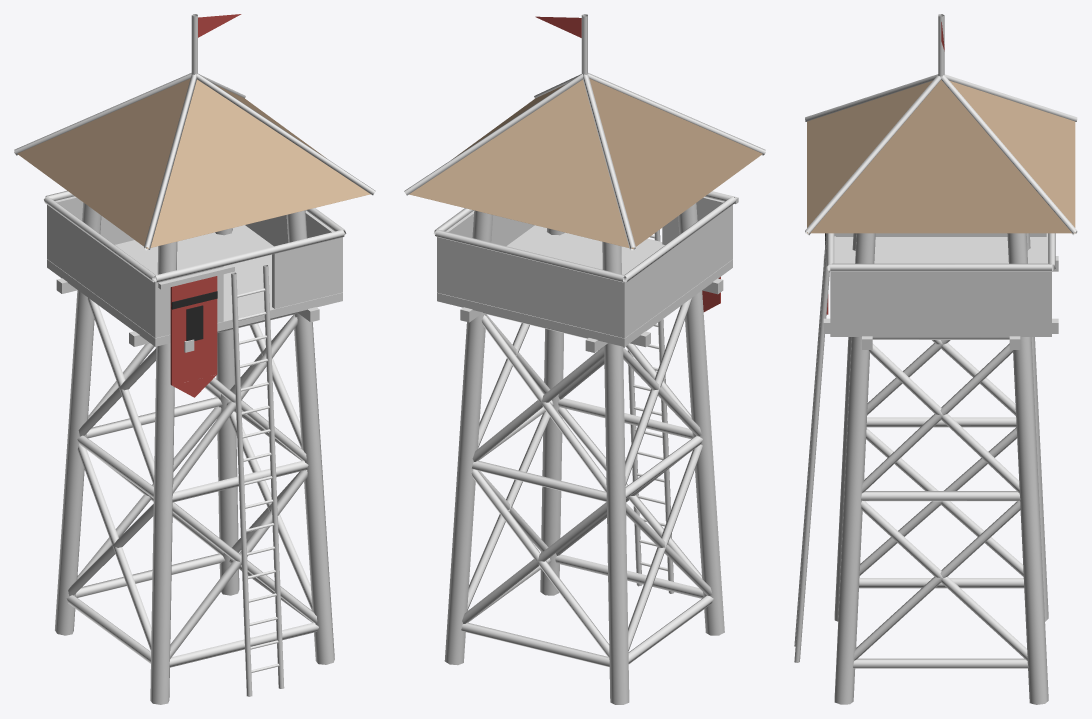
File: watch_tower_wood.glb
The picture shows the model from 3 angles, left to right: view 1: azimuth 30°, elevation 25°; view 2: azimuth 150°, elevation 25°; view 3: azimuth 270°, elevation 25°; orthographic projection. The views are drawn at different scales.
Visible parts, largest first — view 1: watch_tower_wood; view 2: watch_tower_wood; view 3: watch_tower_wood.
Boxes of the visible parts, <box> form: watch_tower_wood: <box>14,14,375,704</box>; watch_tower_wood: <box>404,14,765,704</box>; watch_tower_wood: <box>794,14,1077,704</box>.
Bounding box in the file's own units: 4.08 × 10.61 × 4.22.
